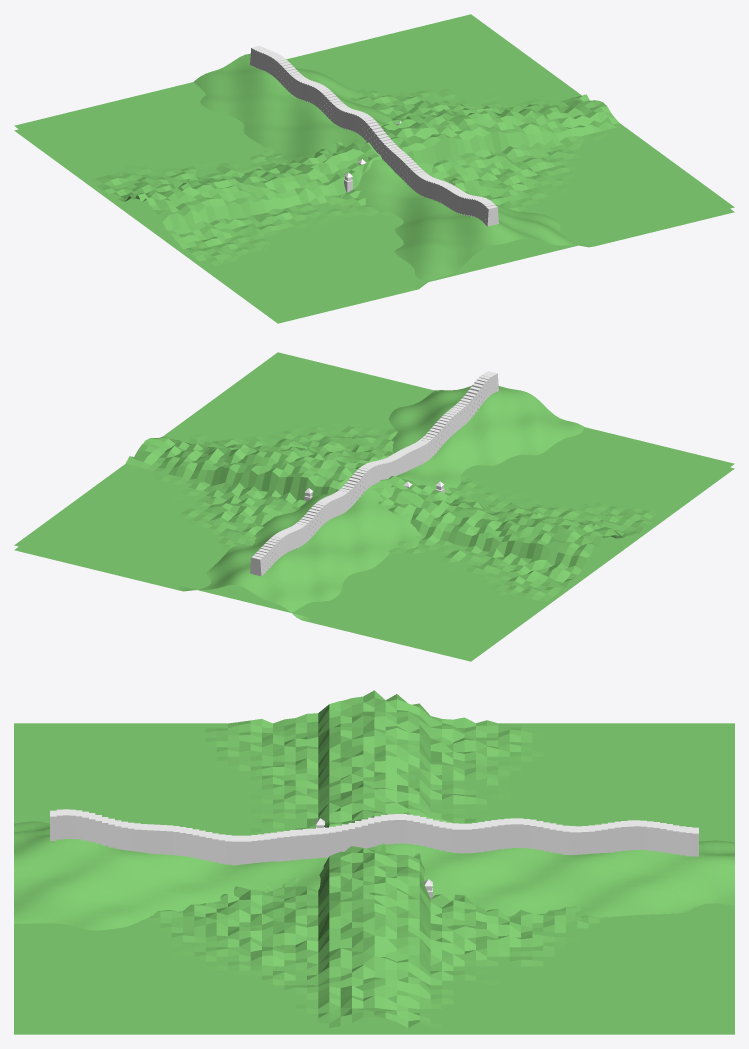
The model's file is TheGreatWallOfChina.glb.
The picture shows the model from 3 angles, top to bottom: view 1: azimuth 30°, elevation 25°; view 2: azimuth 150°, elevation 25°; view 3: azimuth 270°, elevation 25°; orthographic projection. The views are drawn at different scales.
Visible parts, largest first — view 1: Mountain_Terrain.002, Mountain_Terrain, Mountain_Terrain.001, Great_Wall; view 2: Mountain_Terrain.002, Mountain_Terrain, Mountain_Terrain.001, Great_Wall; view 3: Mountain_Terrain.002, Mountain_Terrain, Mountain_Terrain.001, Great_Wall.
Boxes of the visible parts, box(x1,y1,x2,y2) form: Mountain_Terrain.002: box(15, 14, 734, 318); Mountain_Terrain: box(14, 14, 734, 318); Mountain_Terrain.001: box(14, 53, 734, 323); Great_Wall: box(250, 45, 498, 226); Mountain_Terrain.002: box(14, 353, 732, 655); Mountain_Terrain: box(15, 352, 734, 656); Mountain_Terrain.001: box(14, 386, 734, 661); Great_Wall: box(250, 371, 498, 576); Mountain_Terrain.002: box(14, 690, 734, 1028); Mountain_Terrain: box(14, 723, 734, 1028); Mountain_Terrain.001: box(14, 821, 734, 1034); Great_Wall: box(50, 809, 698, 865).
Size of the model in its own units: 200 by 21.43 by 200.
